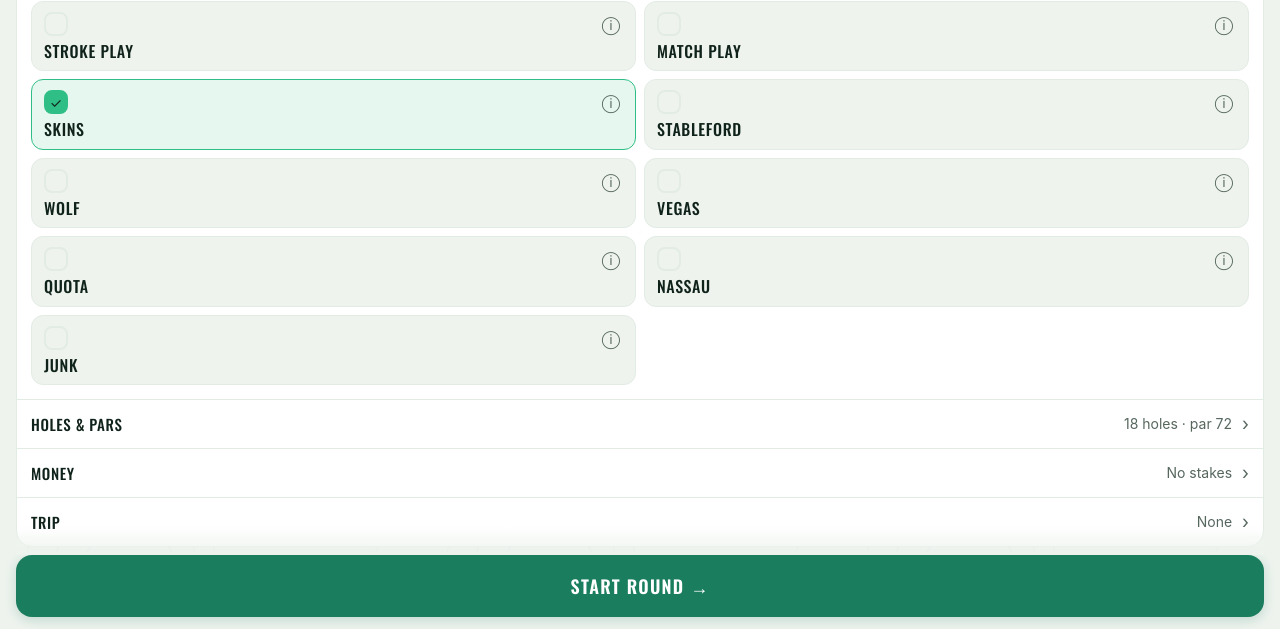
it: the par and stroke index fields › each say which hole and which number they are
(page scrolled)
Click the button with class "setup-row-head" that starts with "Holes & pars" at (77, 424), box [17,400,1263,448]
(page scrolled)
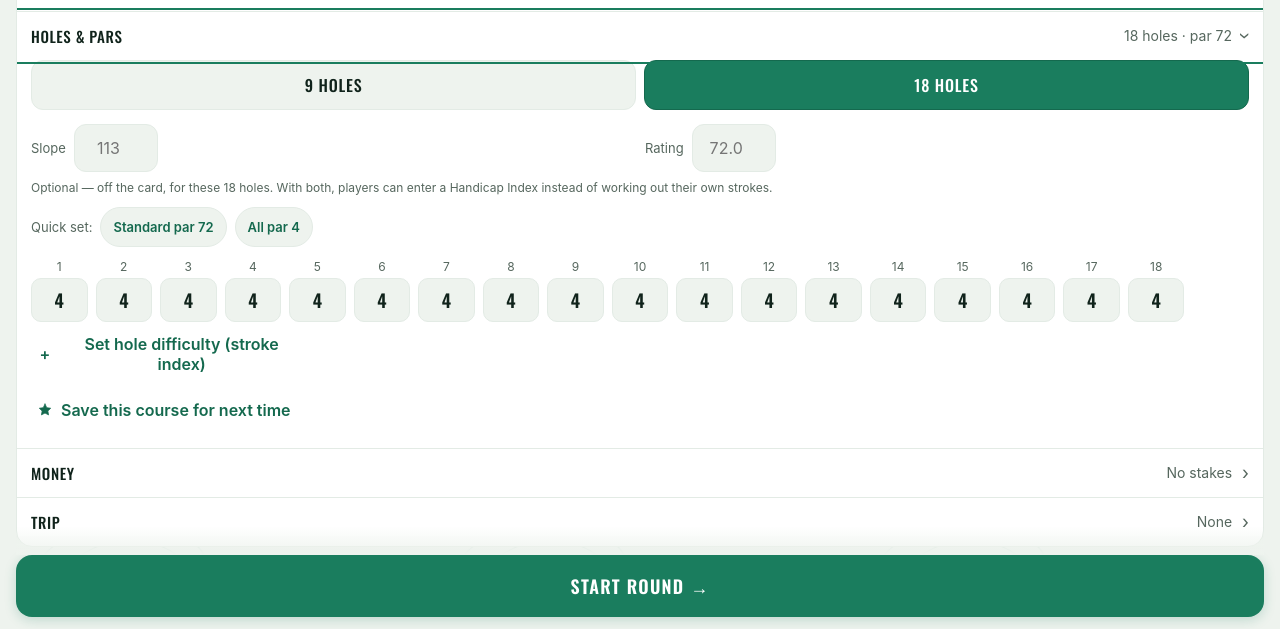
Click the button "+ Set hole difficulty (stroke index)" at (170, 354), box [31,326,308,382]
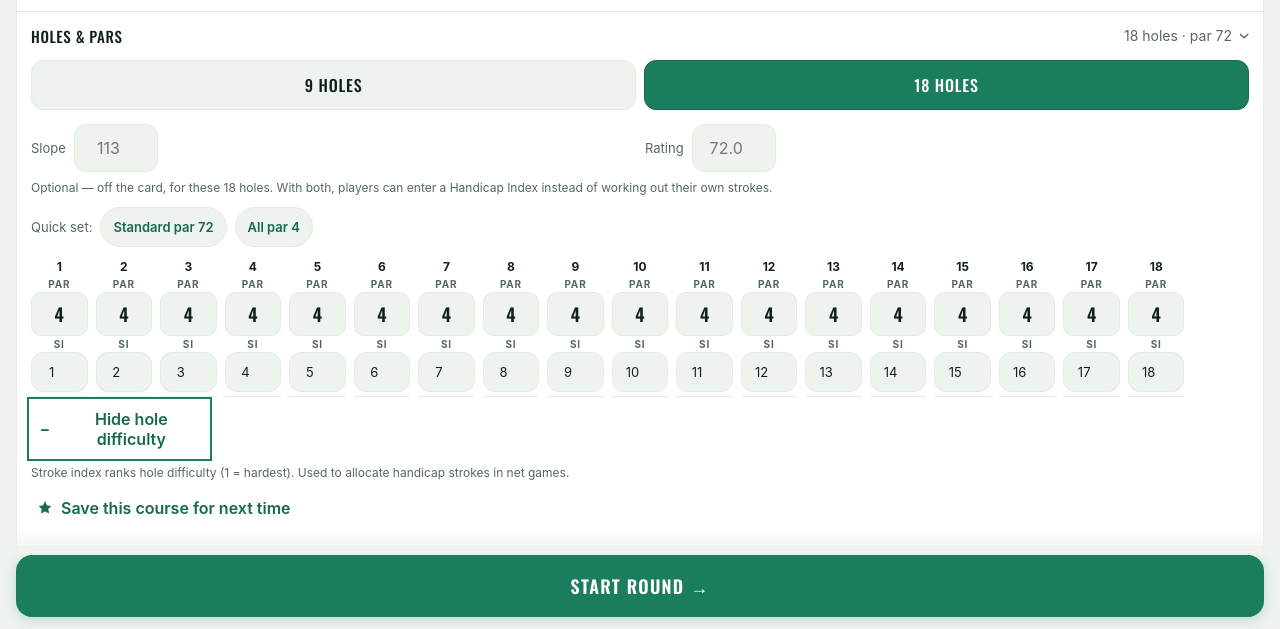
Now the number field named "Stroke index for hole 7" is shown, box [418,352,475,392]
Now the 1st text "Par" is shown, box [48,278,70,290]
Now the 1st text "SI" is shown, box [54,338,65,350]
